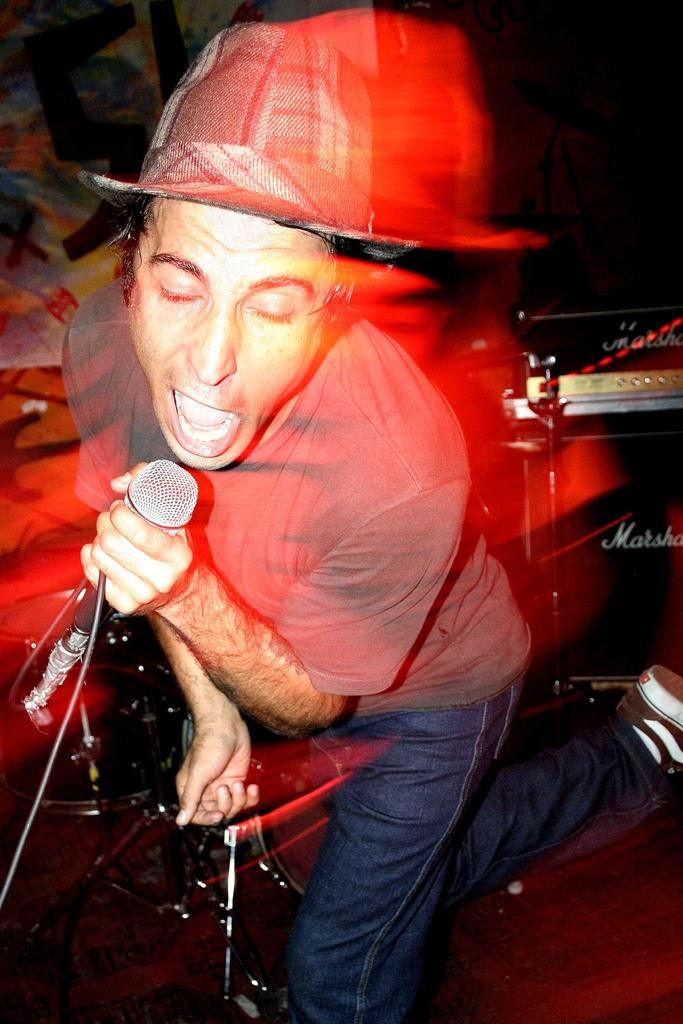Hat: (78, 13, 542, 252)
